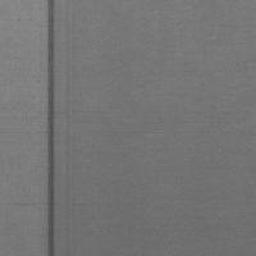Welding line: (47, 0, 55, 256)
